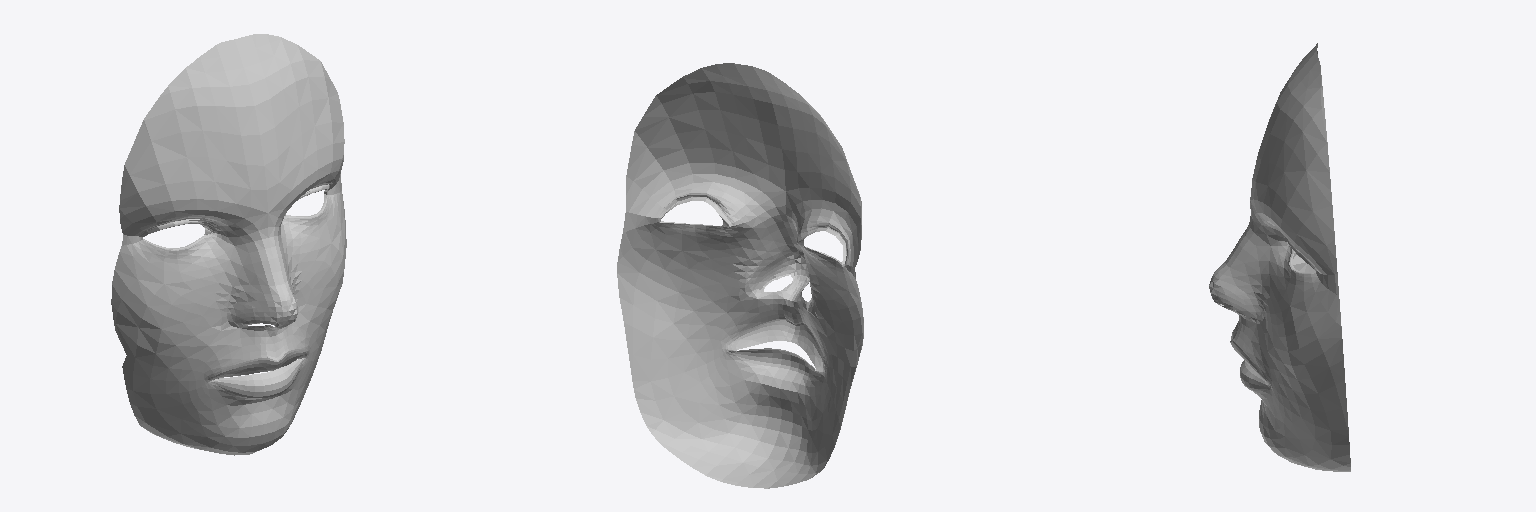
The picture shows the model from 3 angles: view 1: azimuth 30°, elevation 25°; view 2: azimuth 150°, elevation 25°; view 3: azimuth 270°, elevation 25°; orthographic projection.
Parts seen in each view (by area): view 1: Faith_face.001; view 2: Faith_face.001; view 3: Faith_face.001.
Boxes of the visible parts, x1,y1,x2,y2 form: Faith_face.001: [111, 34, 346, 455]; Faith_face.001: [617, 63, 863, 488]; Faith_face.001: [1209, 43, 1350, 471].
Size of the model in its own units: 0.5549 by 0.9025 by 0.285.